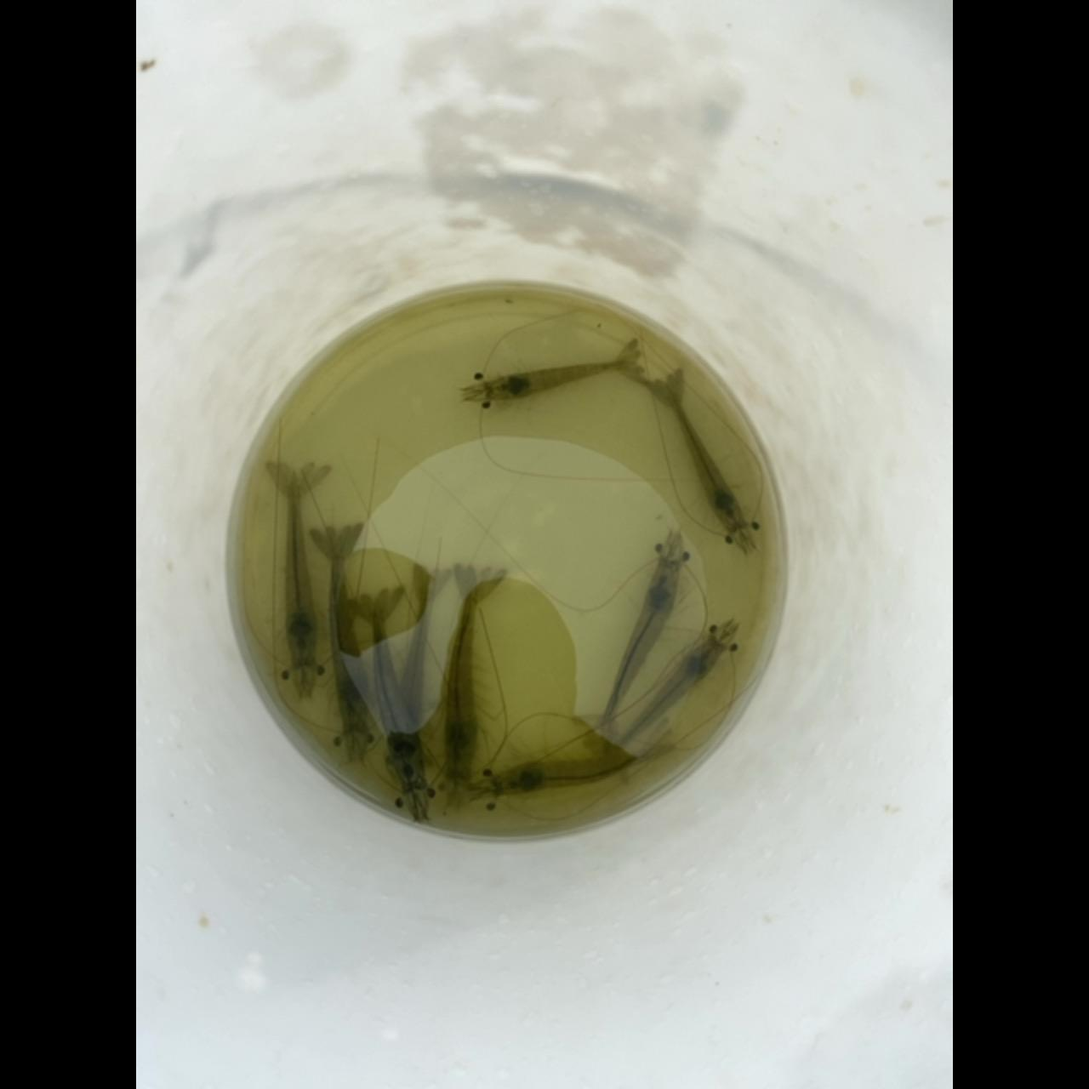round_base: (242, 287, 770, 834)
top_shrimp: (598, 560, 680, 735), (607, 638, 723, 758), (666, 382, 744, 531), (371, 596, 425, 789), (496, 743, 670, 795), (388, 584, 434, 776), (497, 744, 664, 794), (330, 541, 368, 732), (444, 584, 478, 778), (284, 473, 317, 666), (487, 361, 637, 400)
